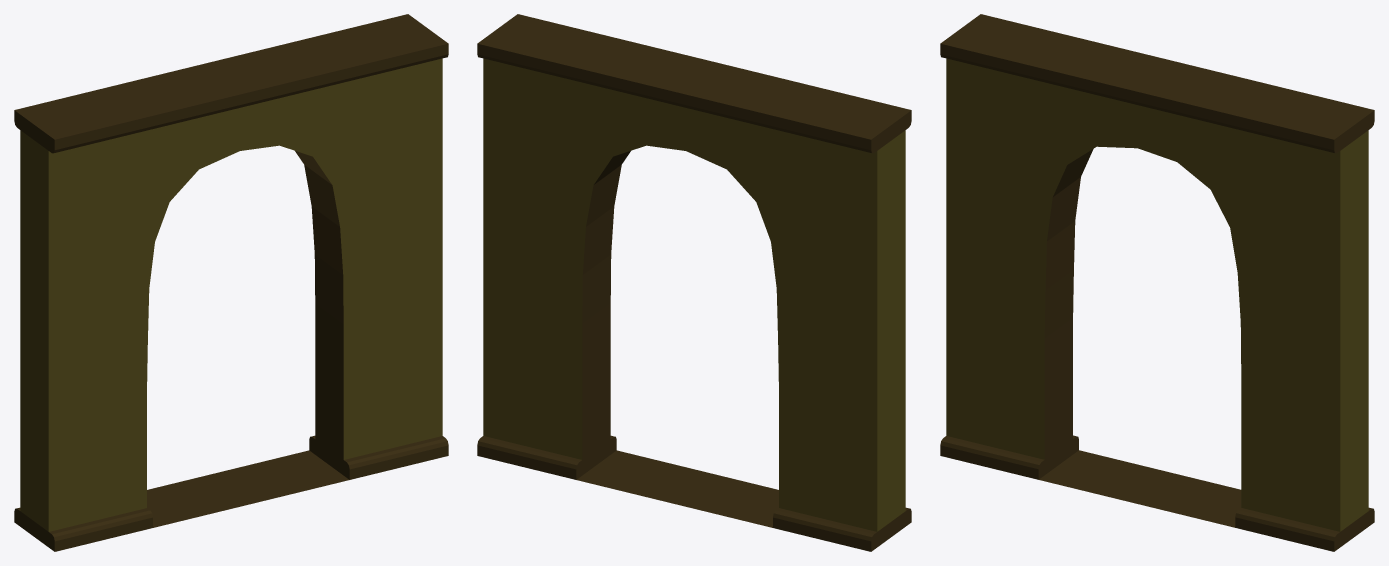
File: WallArc.fbx
3 renders of one model, left to right at view 1: azimuth 30°, elevation 25°; view 2: azimuth 150°, elevation 25°; view 3: azimuth 330°, elevation 25°, orthographic.
Parts seen in each view (by area): view 1: Wall; view 2: Wall; view 3: Wall.
Boxes of the visible parts, box(x1,y1,x2,y2) form: Wall: box(14, 14, 448, 551); Wall: box(477, 14, 911, 551); Wall: box(940, 14, 1374, 551).
Size of the model in its own units: 400 by 400 by 71.24.
